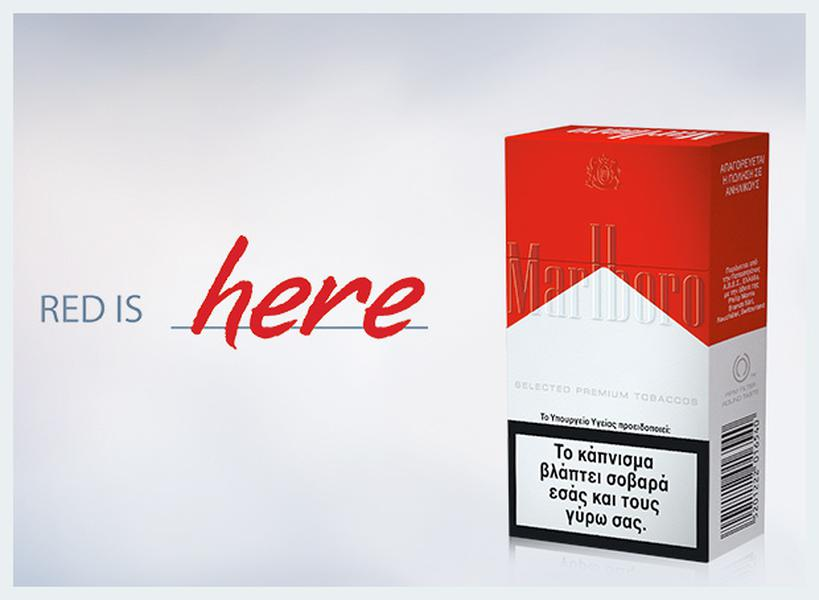marlboro_red: (508, 139, 720, 541)
